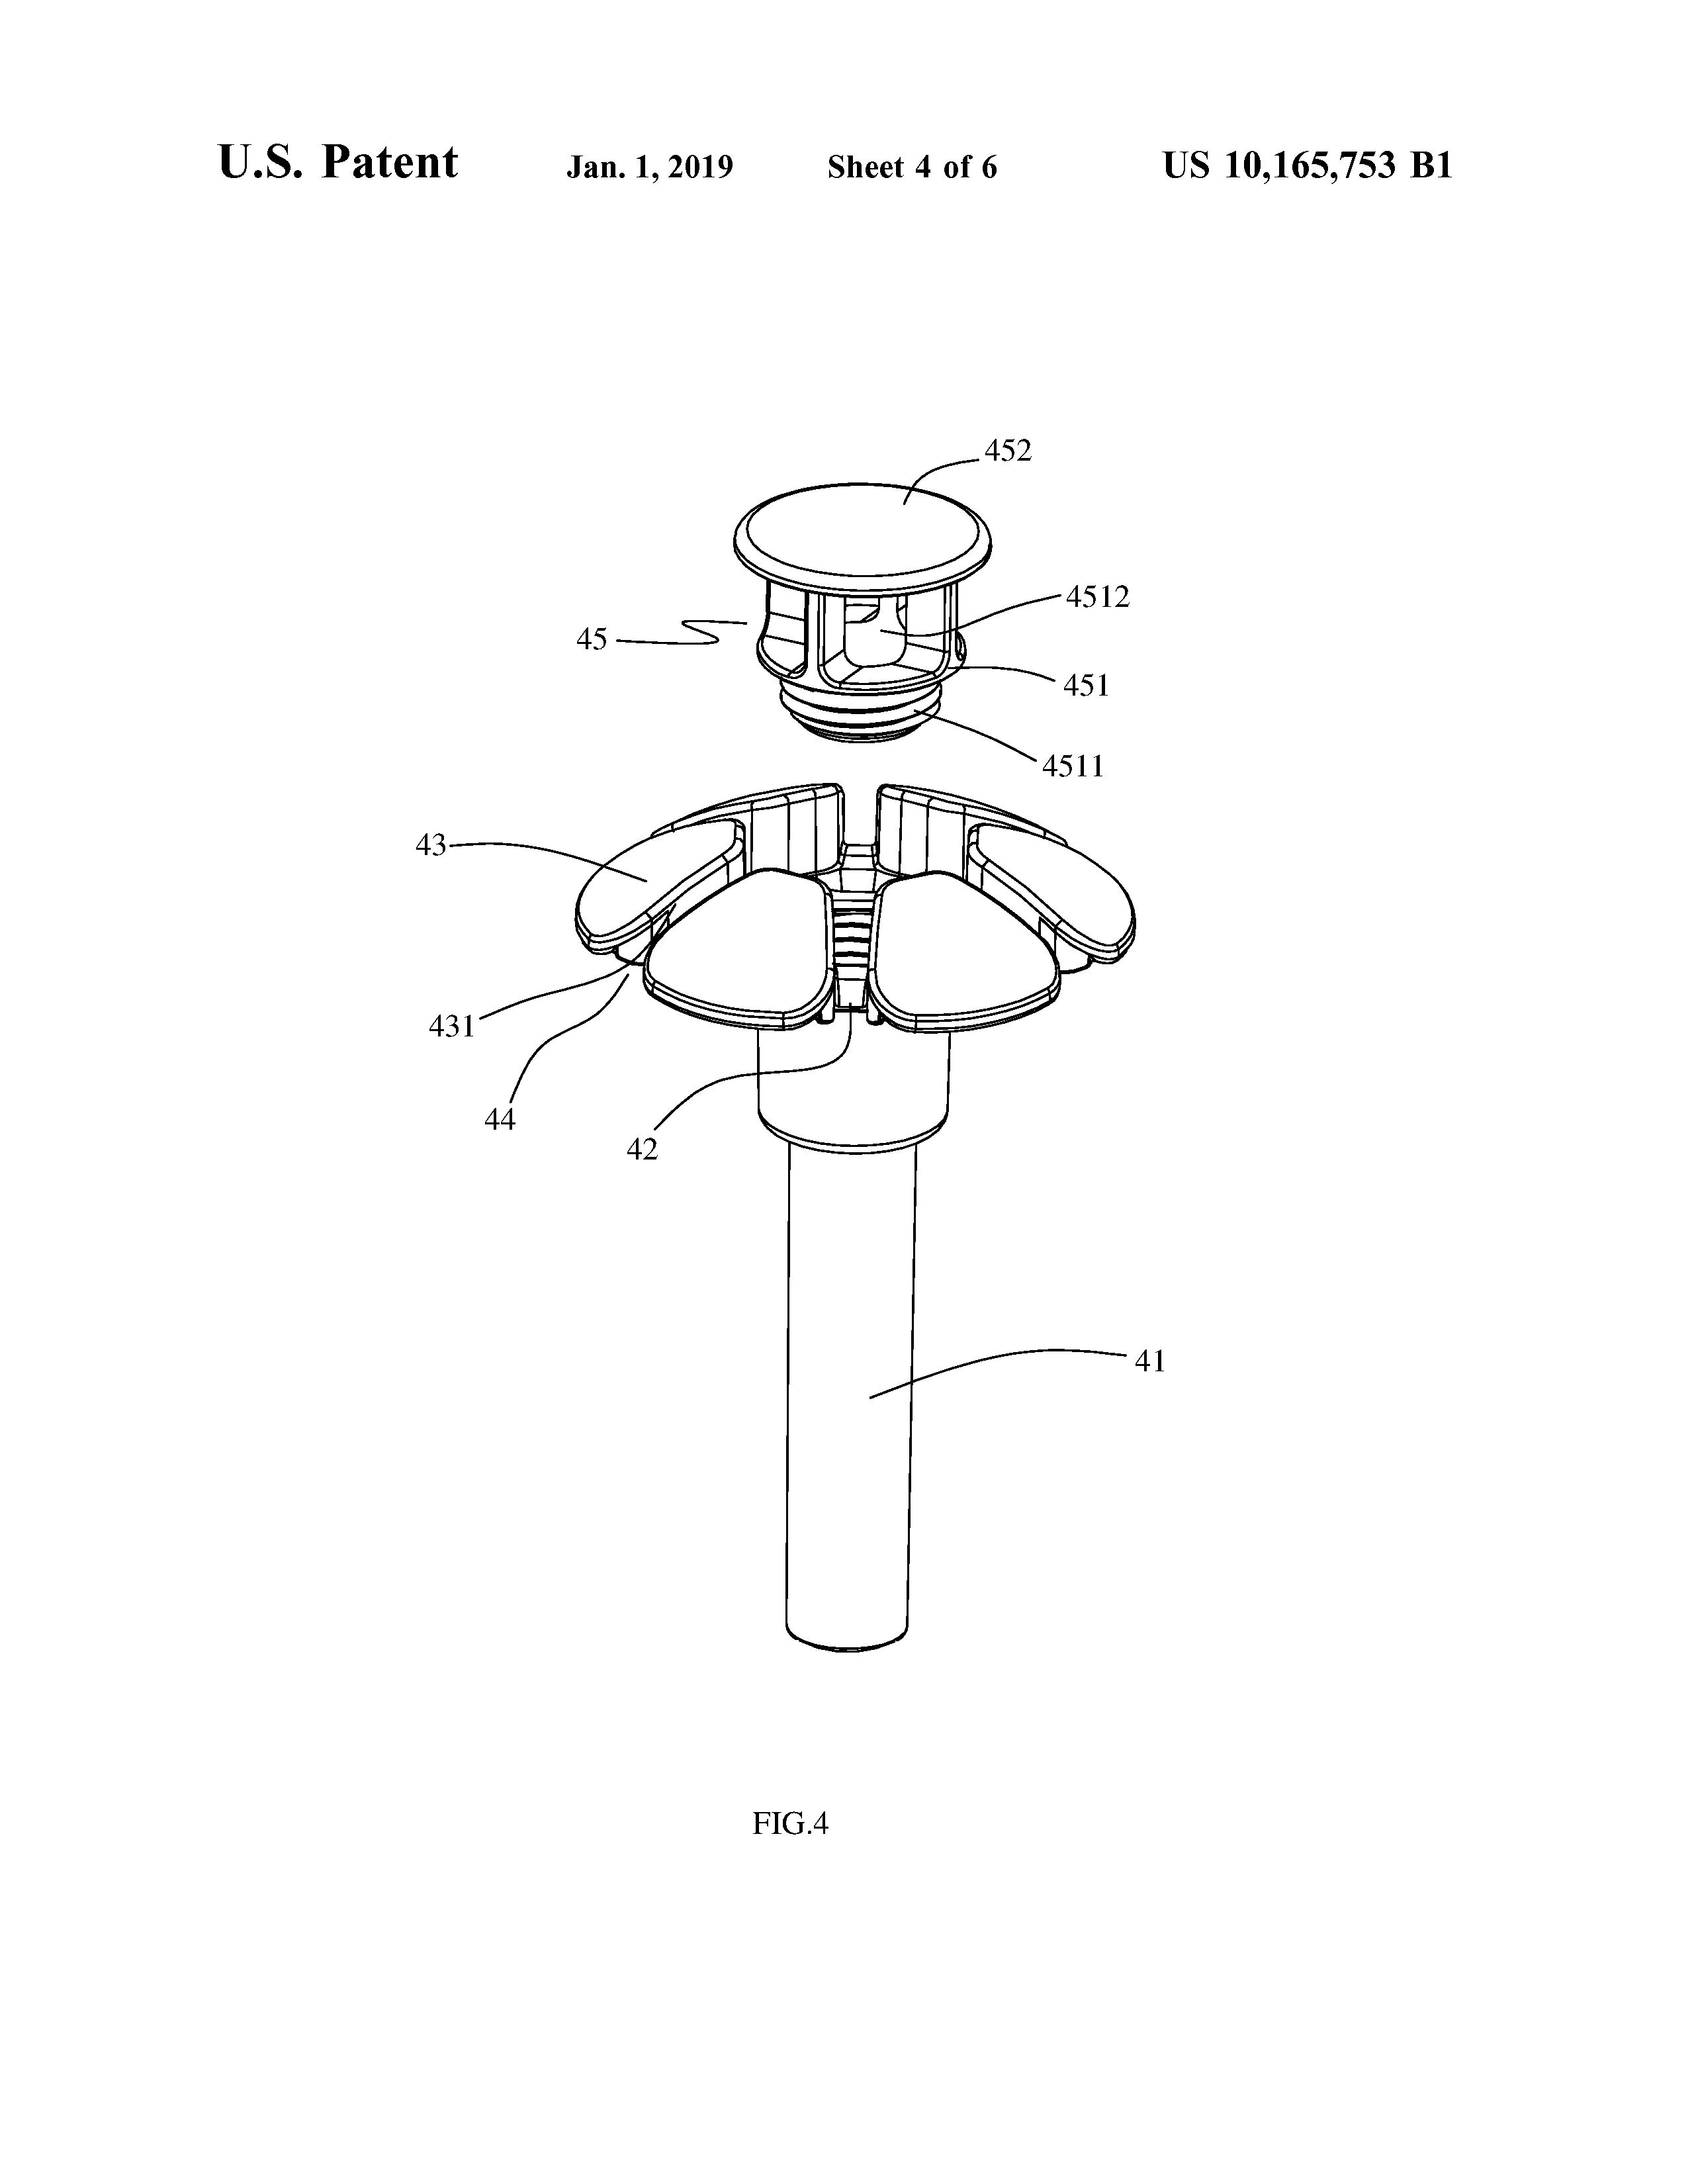patent image: (374, 345, 1262, 1889)
